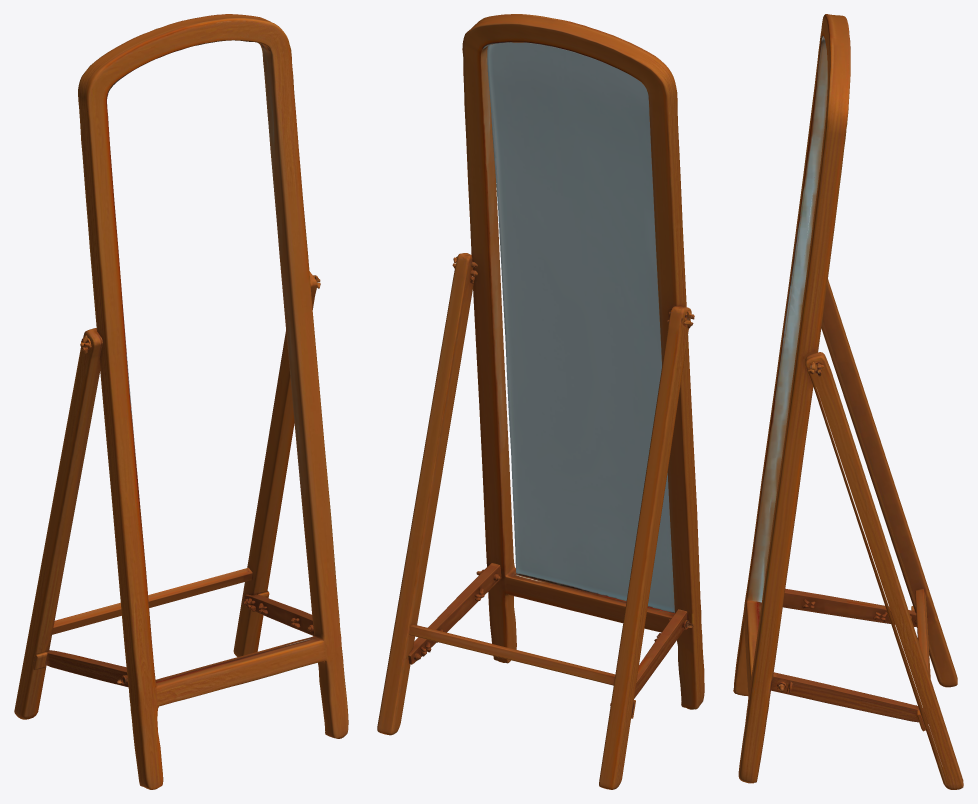
The model's file is toonstudio_standing_mirror.glb.
3 renders of one model, left to right at view 1: azimuth 30°, elevation 25°; view 2: azimuth 150°, elevation 25°; view 3: azimuth 270°, elevation 25°, orthographic. The views are drawn at different scales.
Parts seen in each view (by area): view 1: tripo_32a212d2_cbe2_43d8_b96b_32d7e8a48f0d; view 2: tripo_32a212d2_cbe2_43d8_b96b_32d7e8a48f0d; view 3: tripo_32a212d2_cbe2_43d8_b96b_32d7e8a48f0d.
Part boxes in pixels (<box>): tripo_32a212d2_cbe2_43d8_b96b_32d7e8a48f0d: <box>14,14,348,789</box>; tripo_32a212d2_cbe2_43d8_b96b_32d7e8a48f0d: <box>377,14,704,789</box>; tripo_32a212d2_cbe2_43d8_b96b_32d7e8a48f0d: <box>733,14,963,789</box>.
Bounding box in the file's own units: 0.5745 × 1.6 × 0.4807.
1 material, 1 textured.
